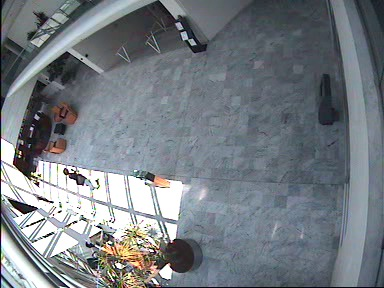person: (63, 168, 99, 189)
